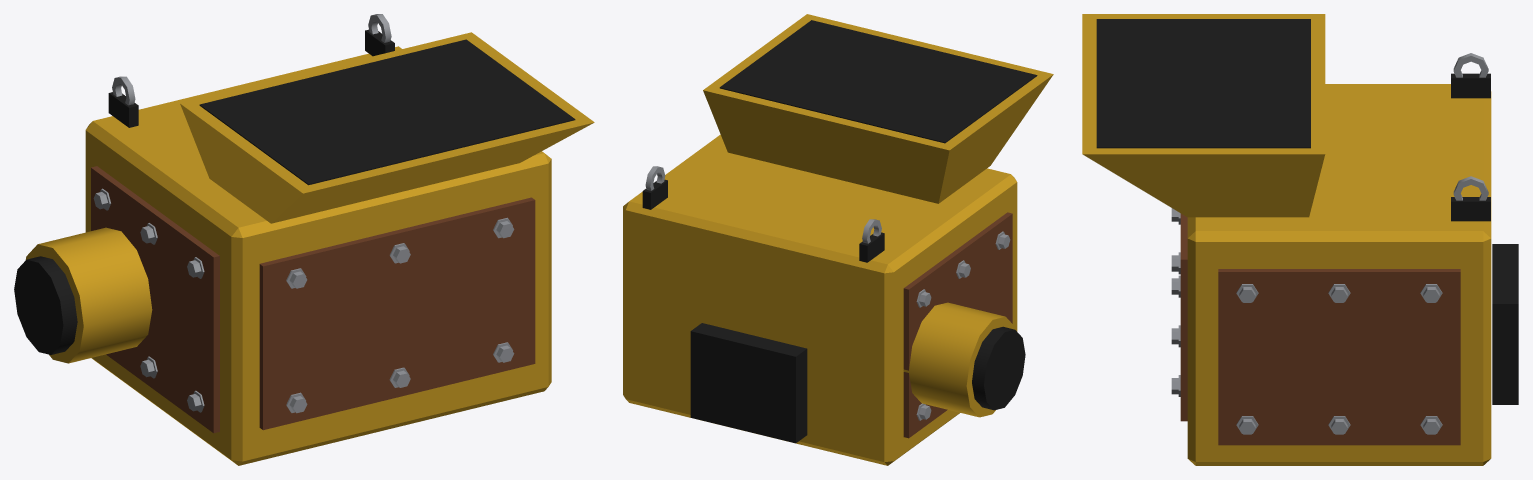
The model's file is mk1_crusher.obj.
3 views of the same model, side by side, from view 1: azimuth 30°, elevation 25°; view 2: azimuth 150°, elevation 25°; view 3: azimuth 270°, elevation 25° (orthographic). The views are drawn at different scales.
Parts seen in each view (by area): view 1: mk1_crusher; view 2: mk1_crusher; view 3: mk1_crusher.
Boxes of the visible parts, x1,y1,x2,y2 form: mk1_crusher: (14, 14, 594, 465); mk1_crusher: (623, 14, 1053, 465); mk1_crusher: (1082, 14, 1518, 465).
Size of the model in its own units: 2.38 by 1.69 by 2.16.
